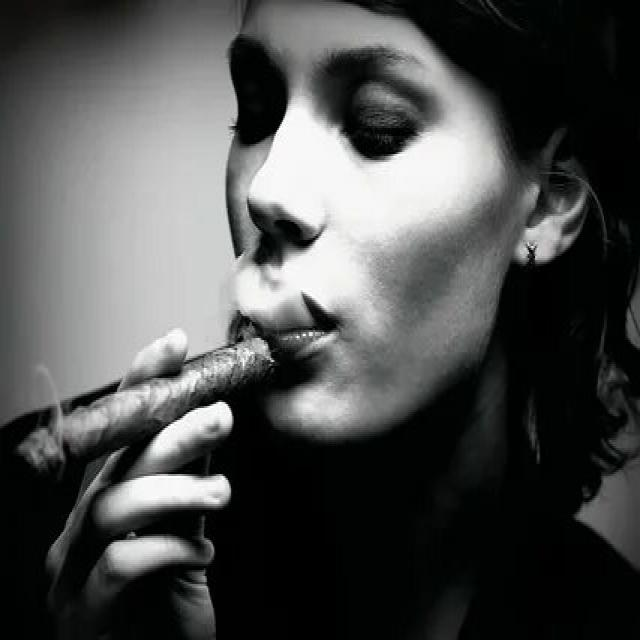cigarette: (10, 330, 282, 482)
